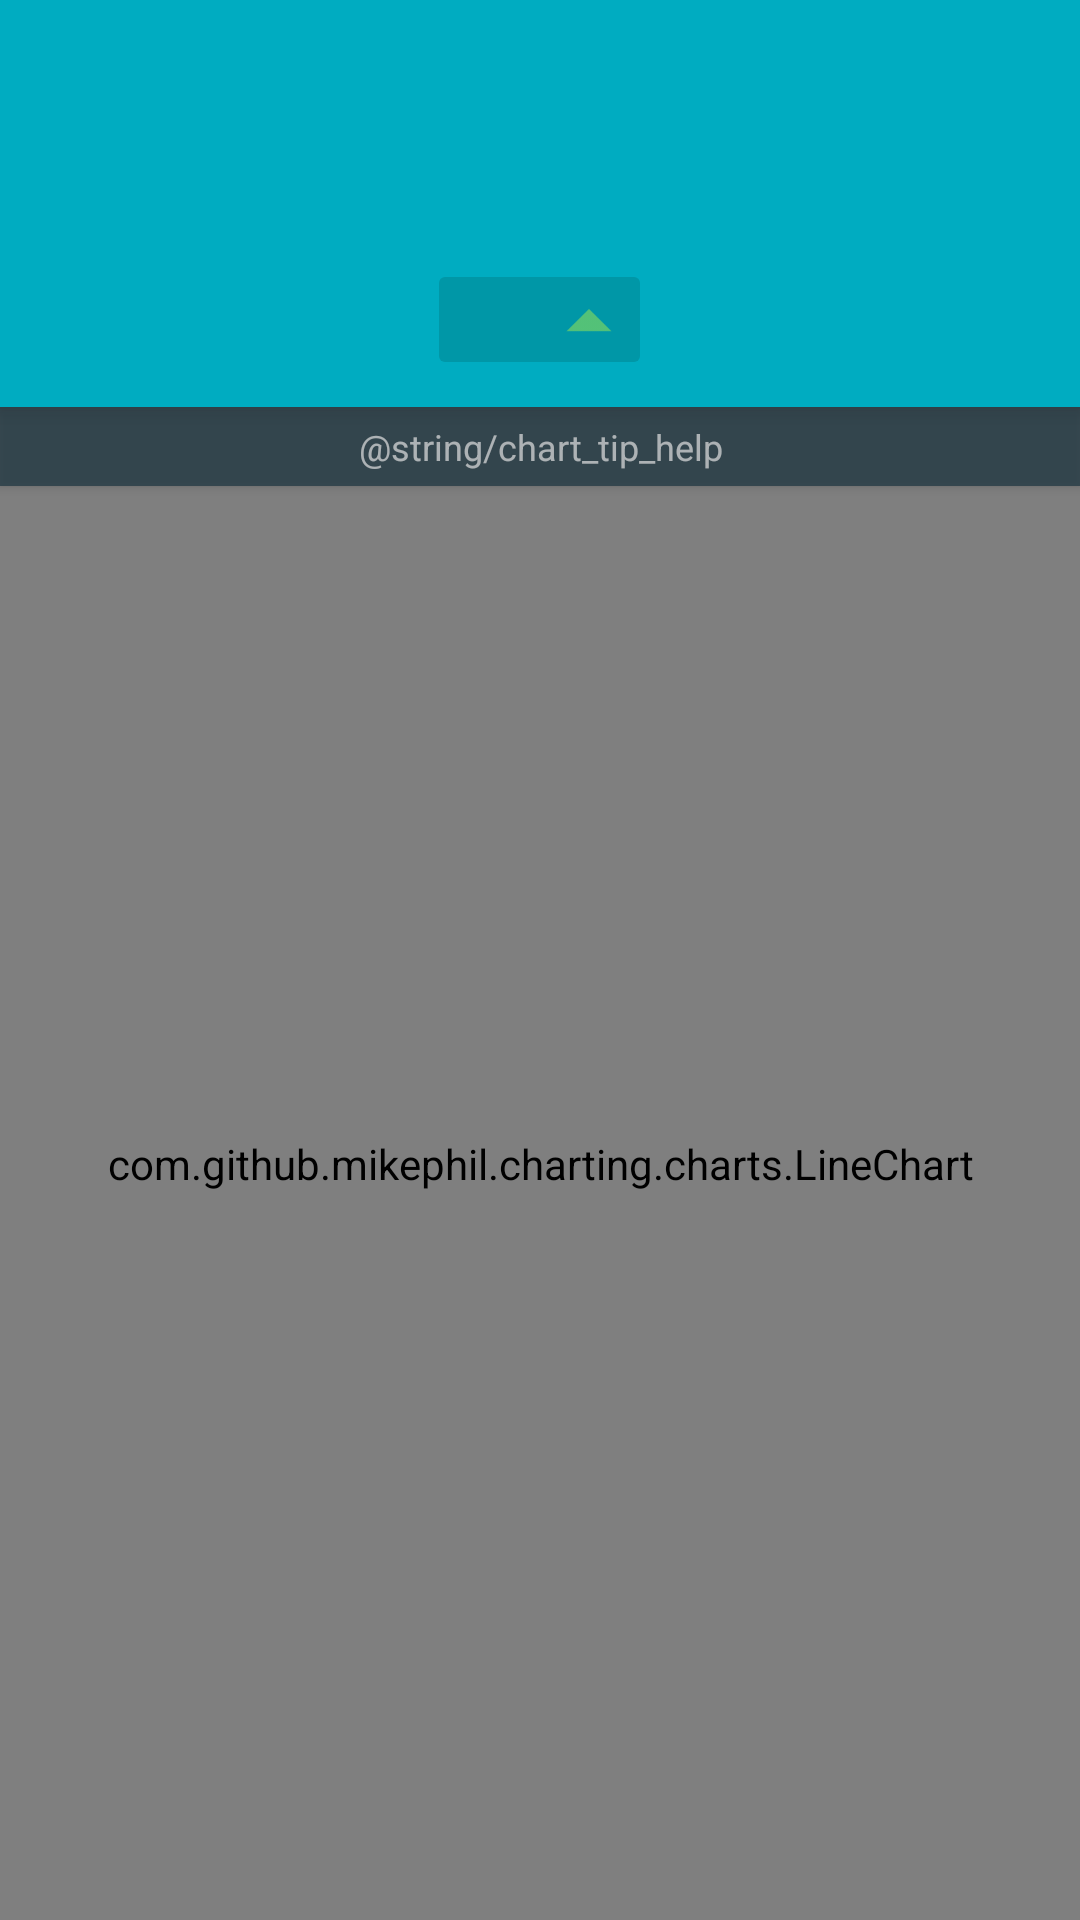

Named icons in this screenshot (1080px×1920px) and their bounding boxes, {"x1": x1, "y1": y1, "x2": x2, "y2": y2}:
price up: {"x1": 567, "y1": 309, "x2": 611, "y2": 331}
